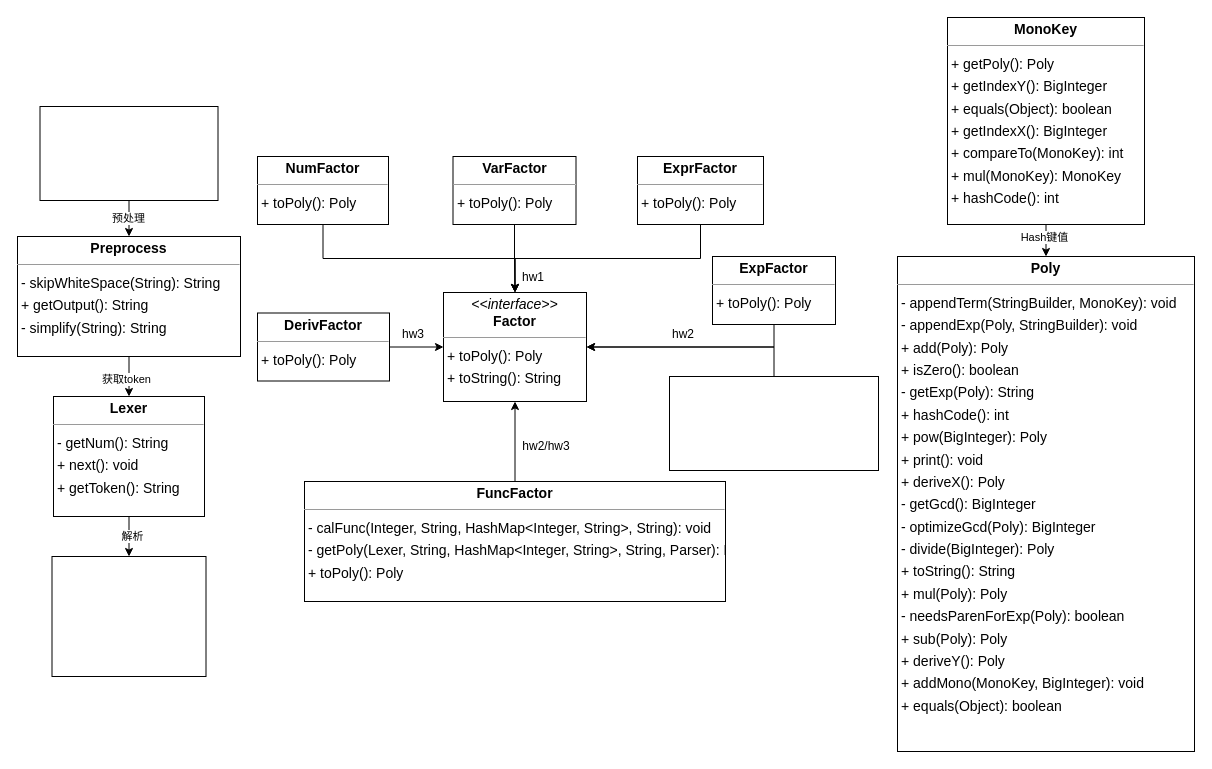
Image size: 1212x769. Some labels were removed from this diagram. Each missing label, with the centre of its shape:
MainClass - getFunc(String): String + main(String[]): void: the point at 128,153
Parser + parseExpr(): Poly + parseFactor(): Poly + parseTerm(): Poly: the point at 128,616
SelFactor - skipUntil(Lexer, String): void + toPoly(): Poly: the point at 773,423
